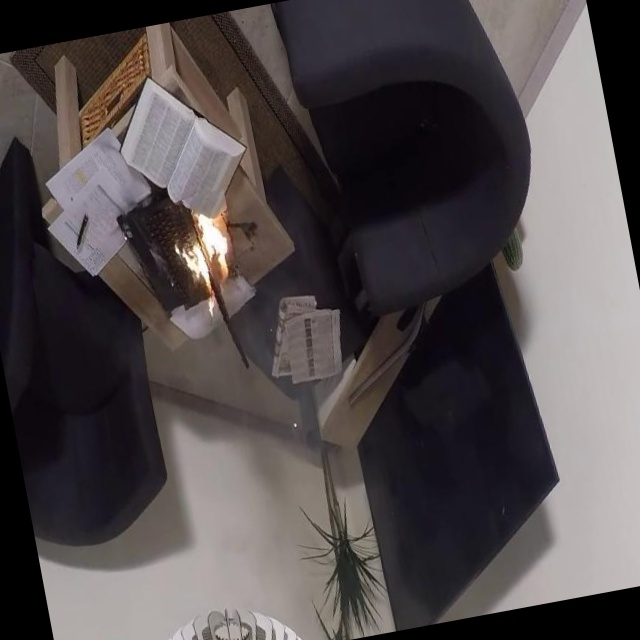fire: (160, 188, 267, 331)
